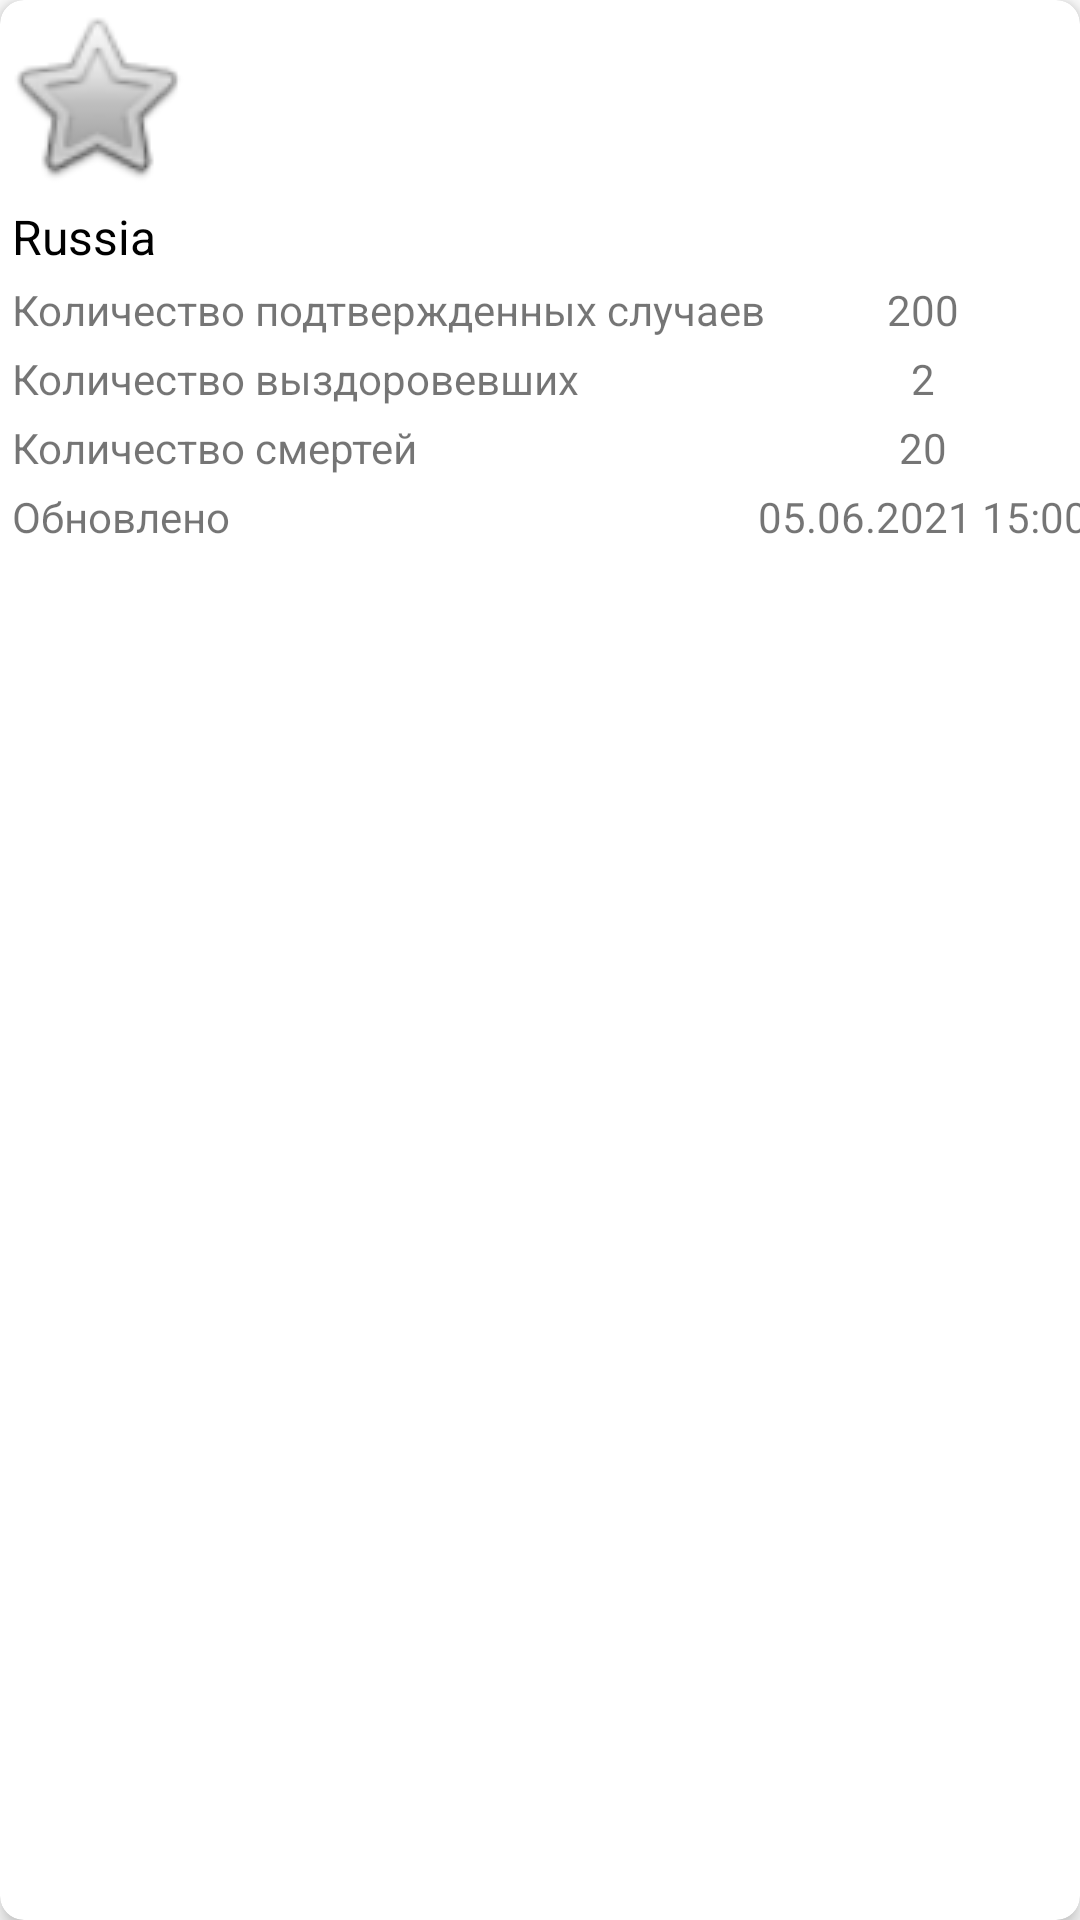

Where to tap for icons on this 1080px x 1920px app screen, as (x=x, y=y):
star off: (x=89, y=88)
